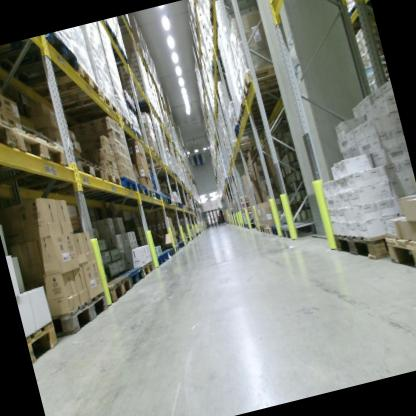pallet: (20, 57, 107, 120), (0, 29, 83, 93), (10, 111, 70, 178), (47, 287, 115, 340), (332, 219, 392, 272), (60, 87, 122, 129), (381, 227, 416, 289), (62, 166, 122, 201), (25, 319, 64, 365), (86, 109, 136, 143), (237, 64, 280, 101), (235, 100, 286, 128), (72, 150, 108, 189), (237, 89, 281, 118), (0, 94, 20, 153), (279, 215, 319, 244), (204, 0, 245, 27), (113, 265, 149, 294), (102, 173, 140, 200), (102, 274, 135, 303), (232, 118, 272, 139), (110, 41, 133, 67), (101, 20, 119, 49), (142, 145, 162, 163), (136, 180, 151, 202), (140, 258, 157, 277), (270, 221, 286, 240), (126, 99, 138, 118), (152, 254, 169, 267), (162, 247, 174, 264), (146, 184, 157, 200), (152, 188, 162, 203), (159, 191, 169, 205), (174, 241, 183, 255), (264, 224, 273, 237), (169, 244, 177, 256), (166, 195, 174, 206), (171, 197, 176, 207), (255, 226, 261, 234), (259, 224, 265, 232), (174, 199, 179, 207)
pallet_truck: (214, 210, 227, 226)
